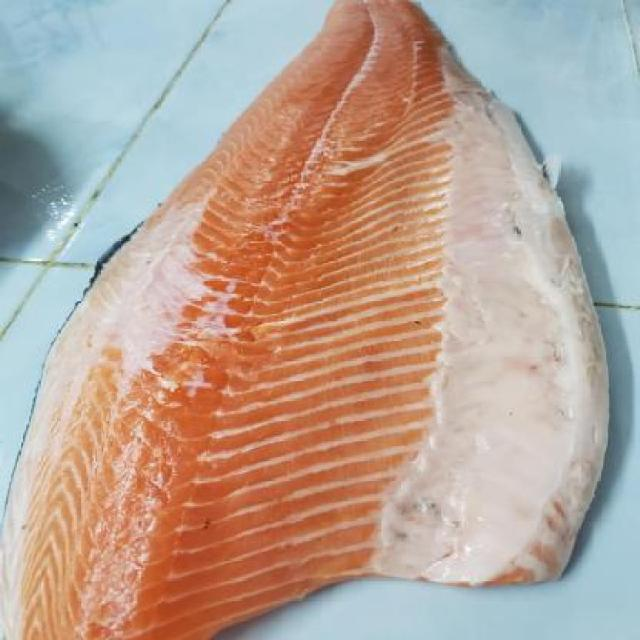salmon: (9, 6, 612, 634)
